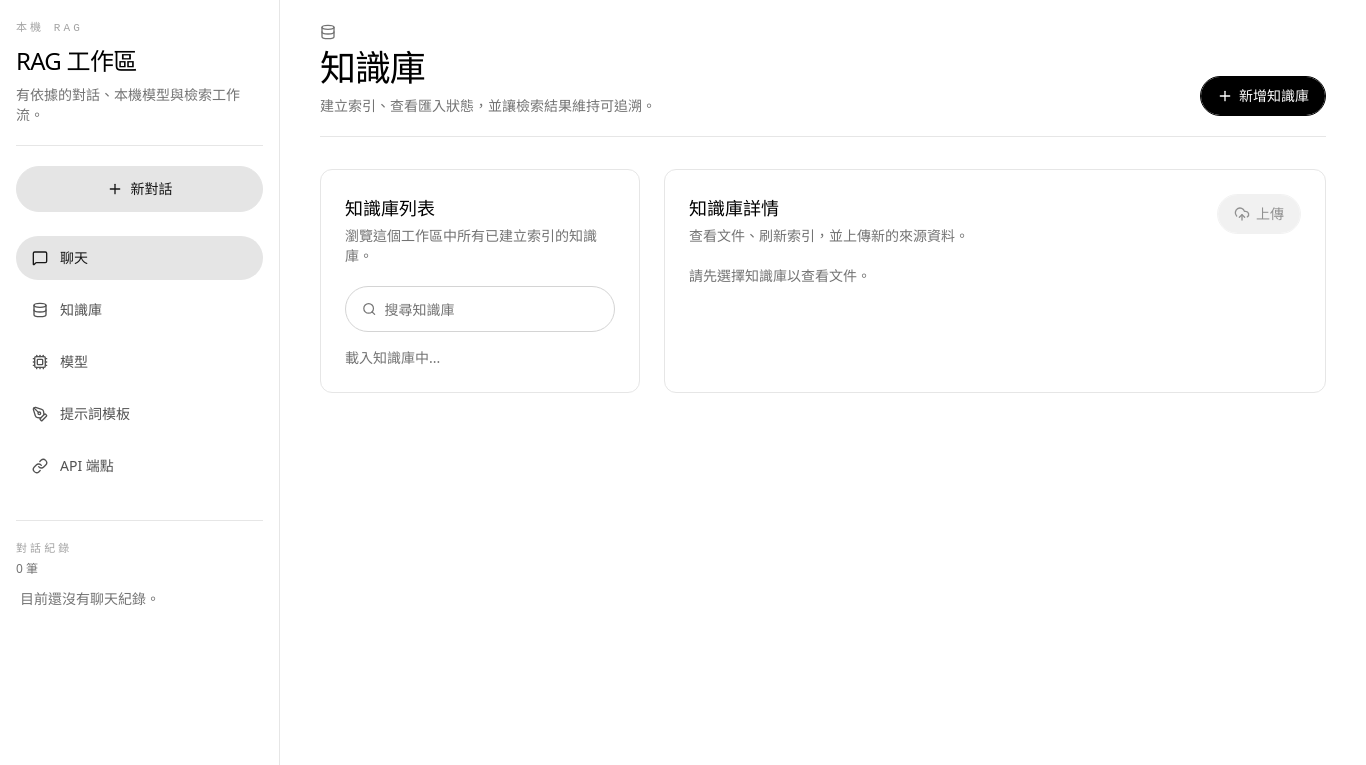
Test case: KnowledgePage › shows only embedding models in the knowledge base form
Click the button "新增知識庫" at (1263,96), box [1200,76,1326,116]
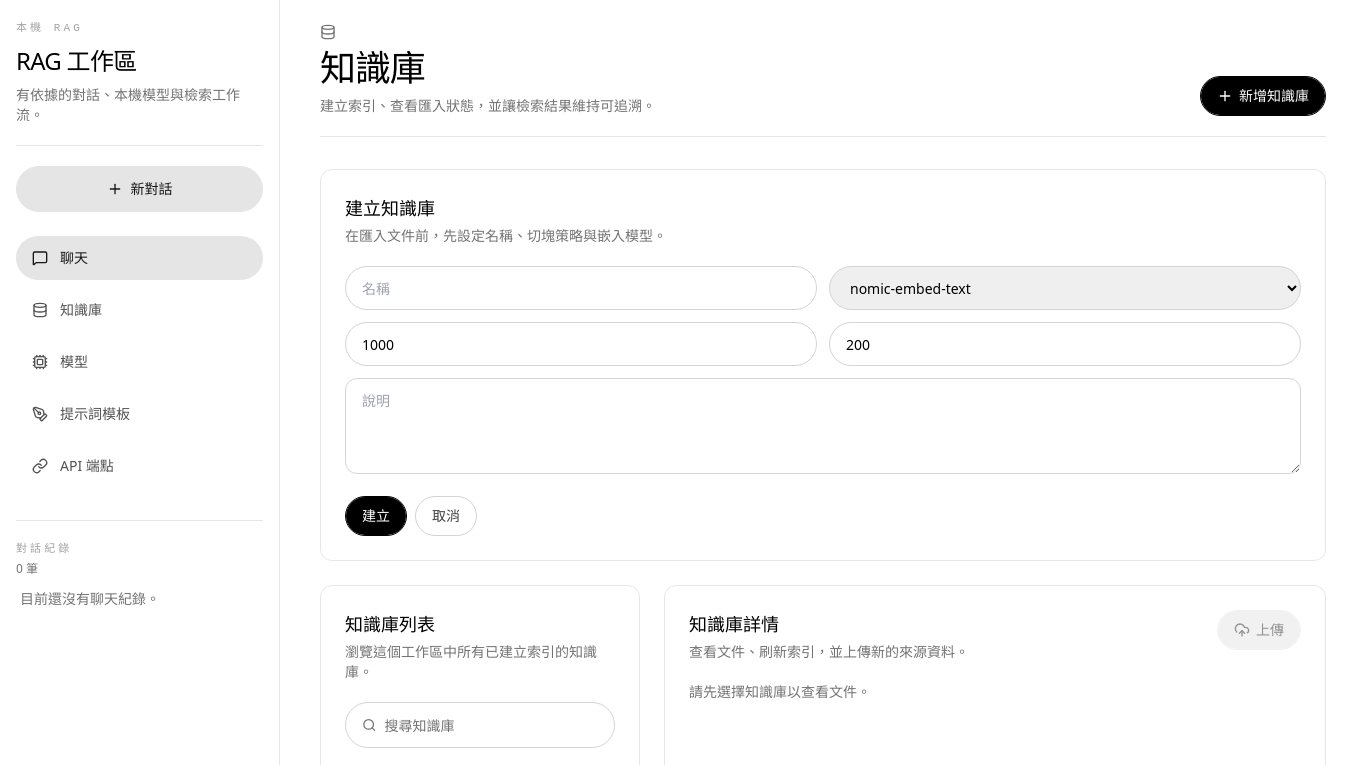
Expected: the dropdown named "嵌入模型" shows "nomic-embed-text", [829,266,1301,310]
